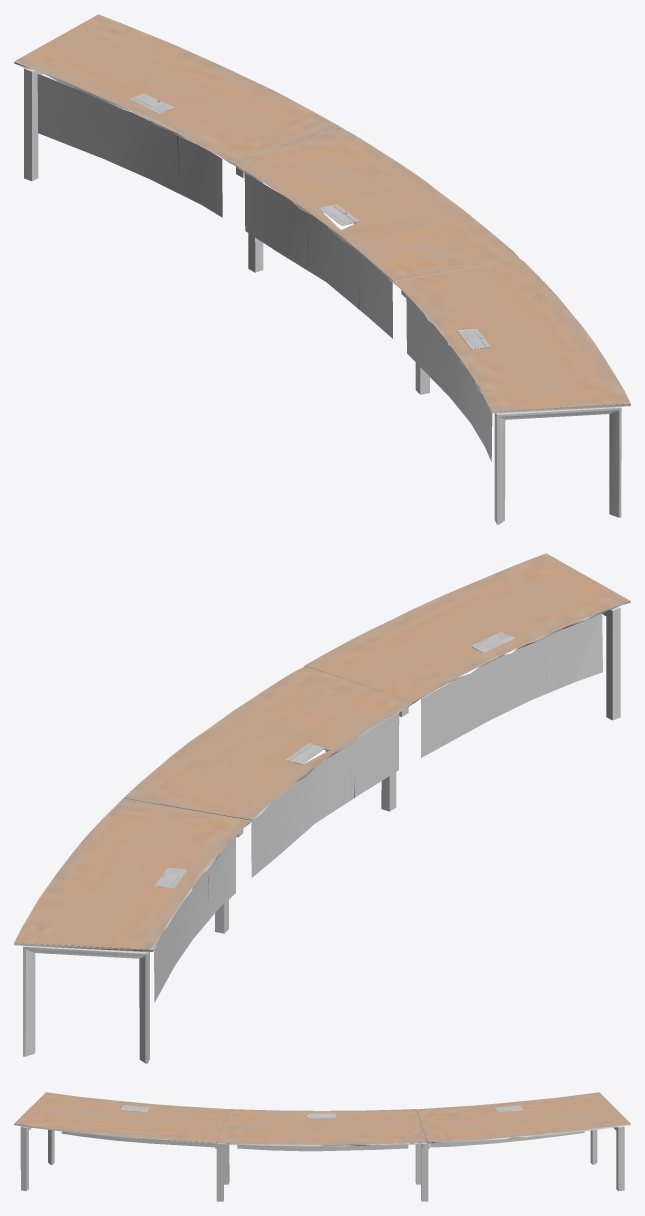
File: BAILEYS-table-02.obj
The picture shows the model from 3 angles, top to bottom: view 1: azimuth 30°, elevation 25°; view 2: azimuth 150°, elevation 25°; view 3: azimuth 270°, elevation 25°; orthographic projection. The views are drawn at different scales.
Size of the model in its own units: 1.25 by 0.754 by 6.17.
Materials: 1 (1 with a texture image).
